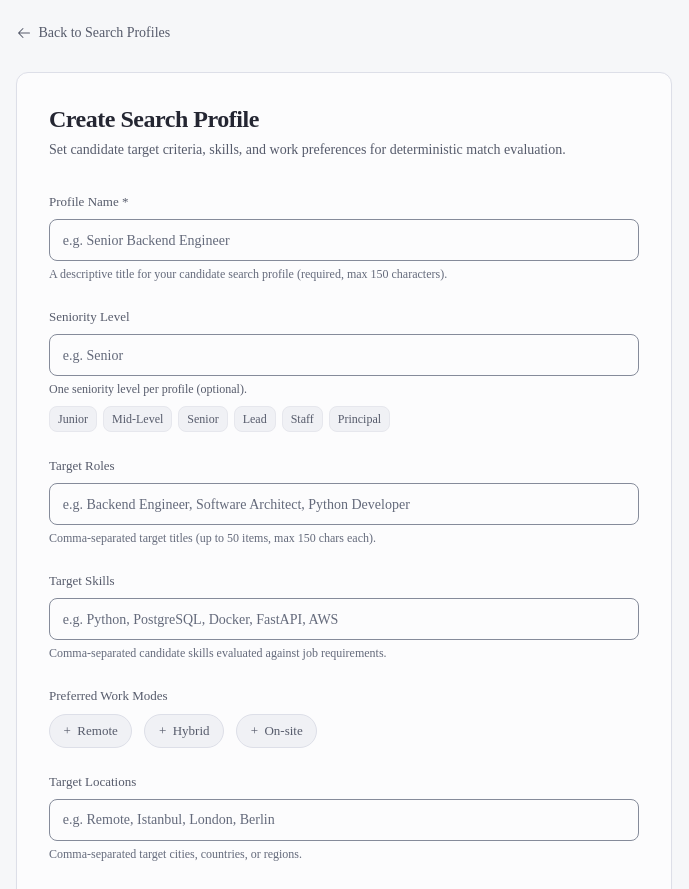
Test: Search Profile Management UI › 8. displays server/network errors properly
Type "My Profile" into the field with test id "profile-name-input" at (344, 240), box [49,219,639,261]
(page scrolled)
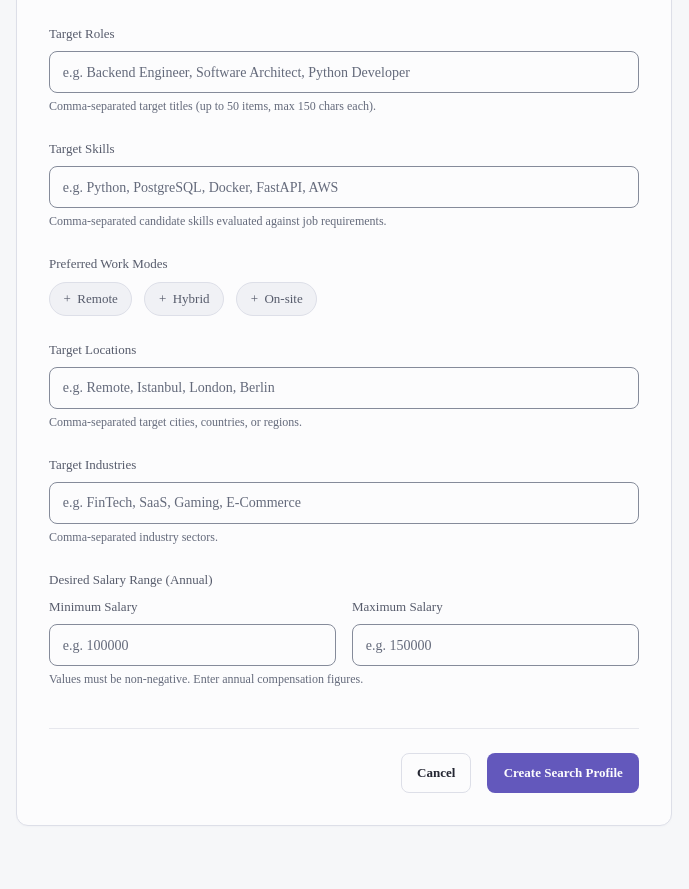
Click the button with test id "submit-create-profile-btn" at (563, 773), box [488,753,639,793]
(page scrolled)
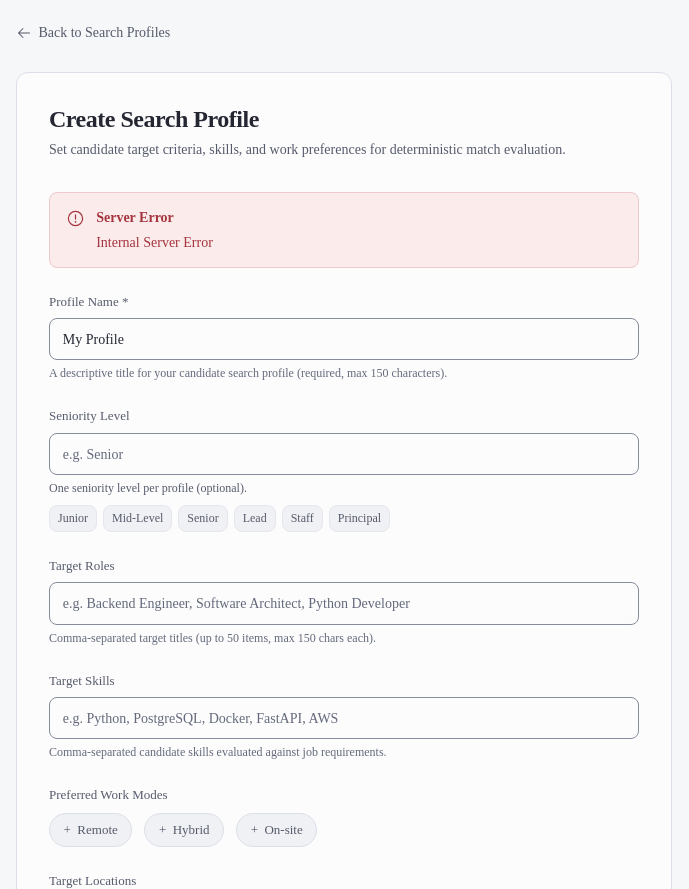
Check: the element with test id "create-profile-api-error" is shown, box [49,192,639,268]
Check: the text "Internal Server Error" is shown, box [96,232,213,253]
